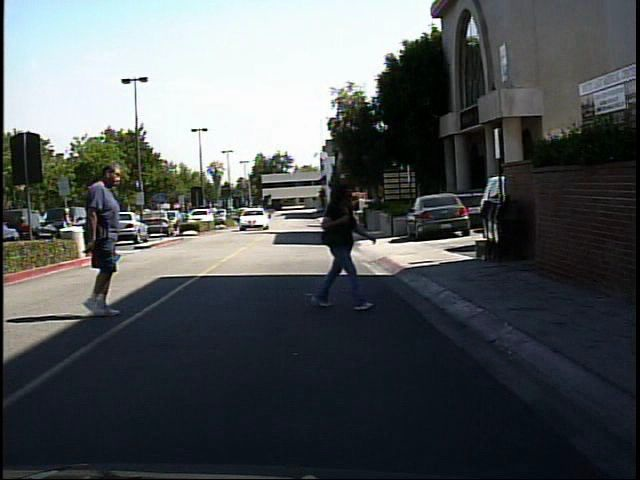person: (59, 163, 146, 322), (309, 175, 387, 316), (55, 203, 76, 256)
